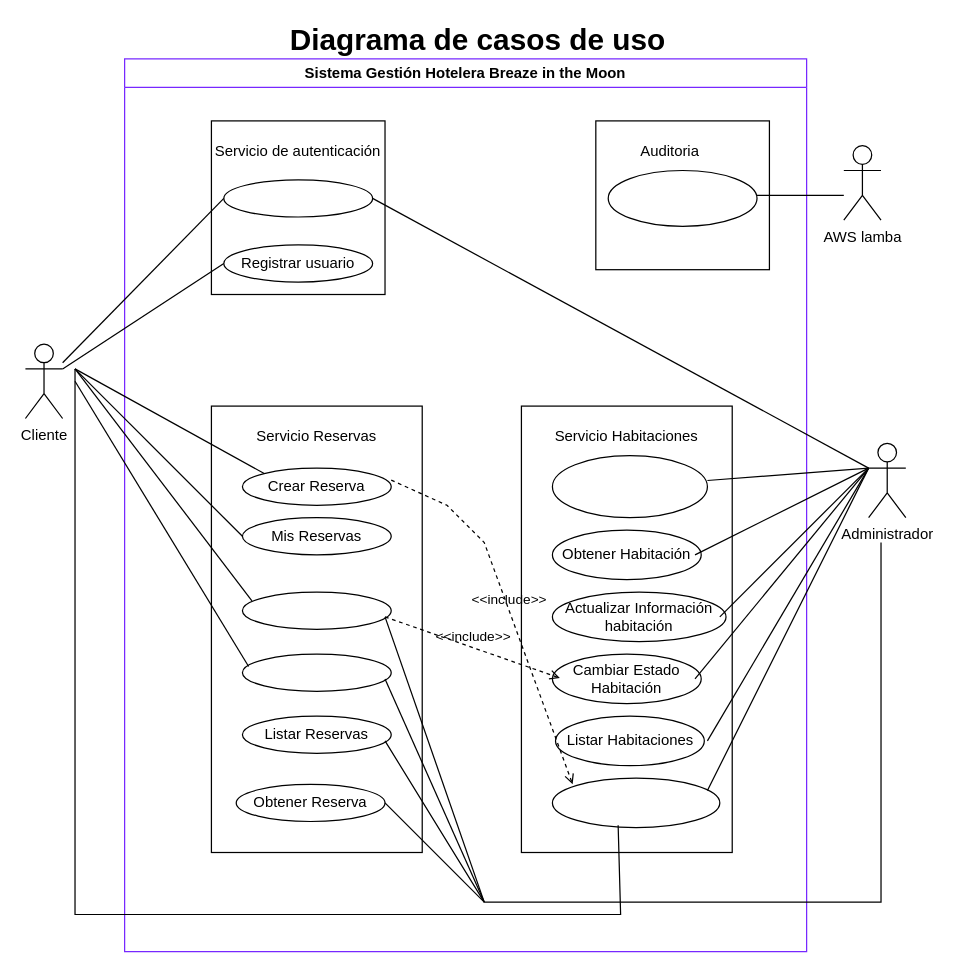
The diagram is 955 pixels wide and 973 high, and some of its shapes have lost their labels. Each missing label, with the box of its shape:
Actualizar Reserva: (241, 653, 391, 691)
Cancelar Reserva: (241, 591, 391, 629)
Crear Habitación: (551, 454, 707, 518)
Iniciar sesión: (223, 179, 373, 217)
Listar Habitaciones disponibles: (551, 777, 720, 828)
Registrar Evento auditoria: (607, 169, 757, 226)
